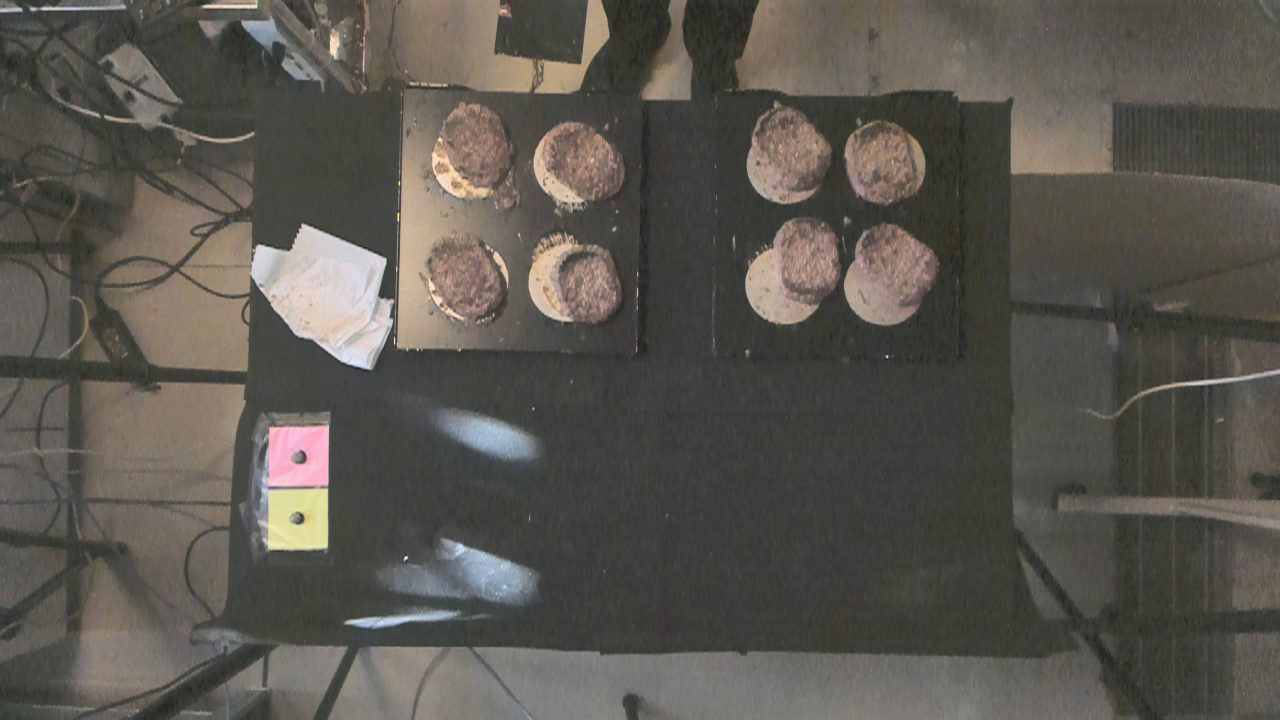hamburger: (541, 114, 628, 207), (853, 219, 938, 307), (753, 102, 829, 195), (429, 238, 508, 324), (845, 115, 917, 205), (443, 93, 508, 185), (781, 214, 844, 302), (555, 245, 624, 325)
marker: (268, 426, 330, 486)
